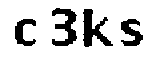3: (49, 2, 76, 52)
c: (10, 15, 38, 51)
k: (80, 7, 115, 52)
s: (117, 16, 146, 52)
